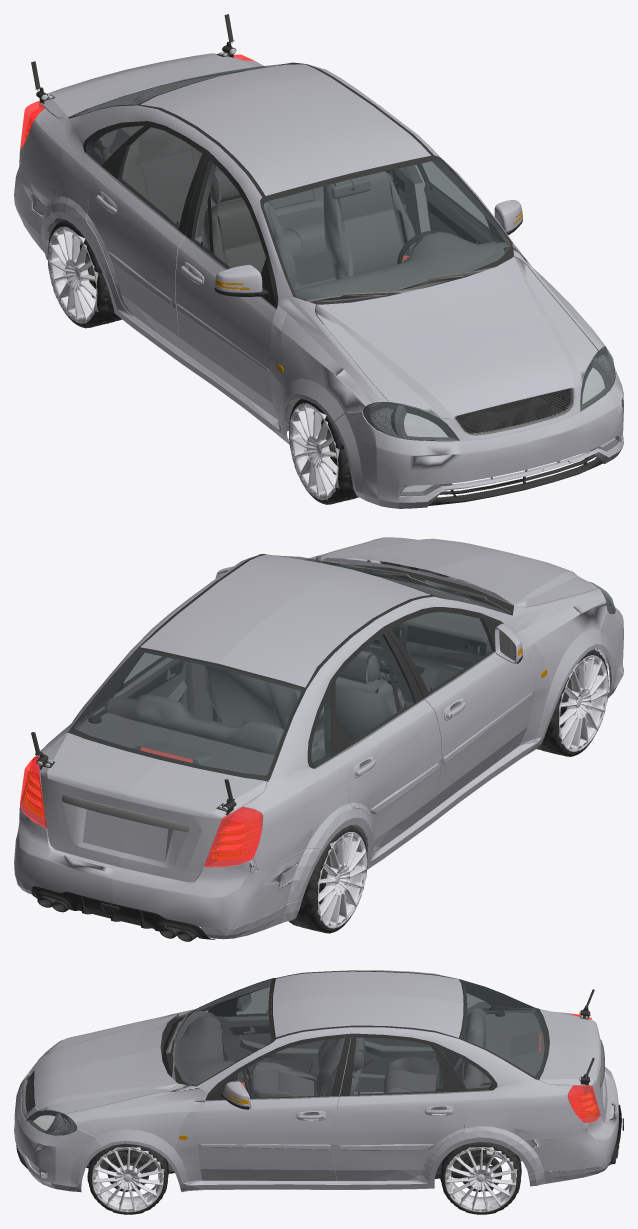
The model's file is gentra.glb.
3 views of the same model, one above another, from view 1: azimuth 30°, elevation 25°; view 2: azimuth 150°, elevation 25°; view 3: azimuth 270°, elevation 25° (orthographic). The views are drawn at different scales.
Visible parts, largest first — view 1: body, wLF, wLB; view 2: body, wLF, wLB, sigR; view 3: body, wRF, wRB.
Part boxes in pixels (x1,y1,x2,y2): body: [14, 14, 623, 508]; wLF: [47, 220, 121, 328]; wLB: [289, 399, 358, 504]; body: [14, 537, 623, 941]; wLF: [289, 825, 367, 933]; wLB: [537, 649, 608, 756]; sigR: [211, 646, 547, 858]; body: [14, 970, 623, 1192]; wRF: [440, 1142, 521, 1214]; wRB: [87, 1143, 168, 1214].
Size of the model in its own units: 1.89 by 1.4 by 4.5.
